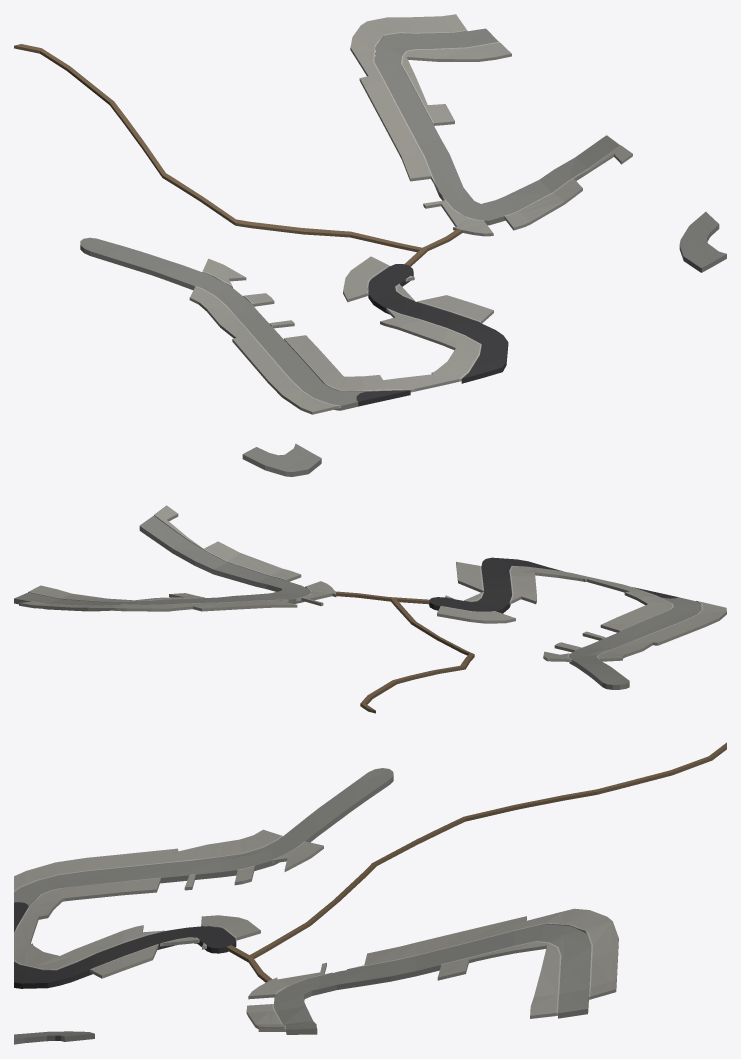
The picture shows the model from 3 angles, top to bottom: view 1: azimuth 30°, elevation 25°; view 2: azimuth 150°, elevation 25°; view 3: azimuth 270°, elevation 25°; orthographic projection. The views are drawn at different scales.
Size of the model in its own units: 132 by 34.7 by 146.
